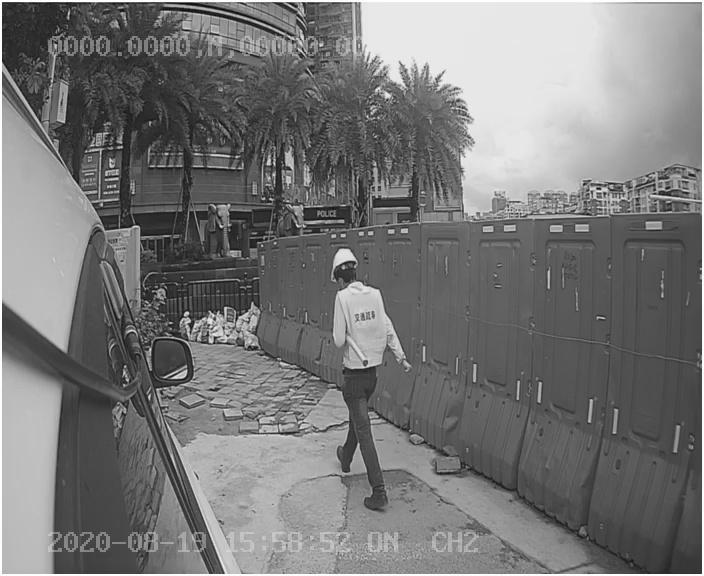person: (313, 246, 419, 518)
